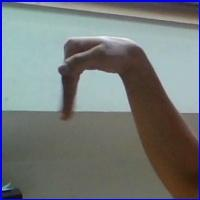del: (52, 32, 151, 131)
